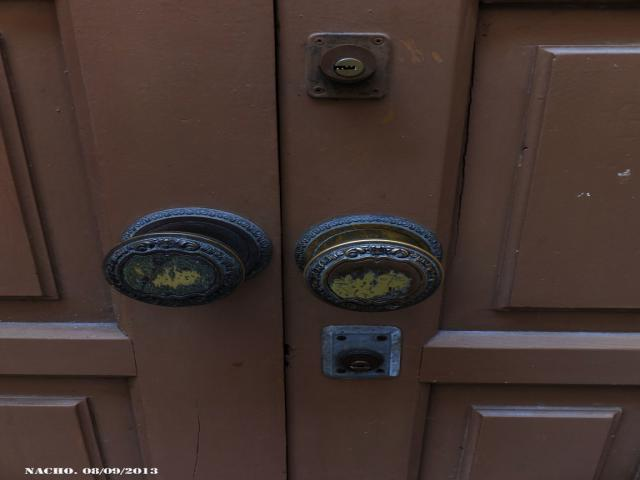Door-handle: (101, 207, 276, 309), (295, 213, 444, 313)
